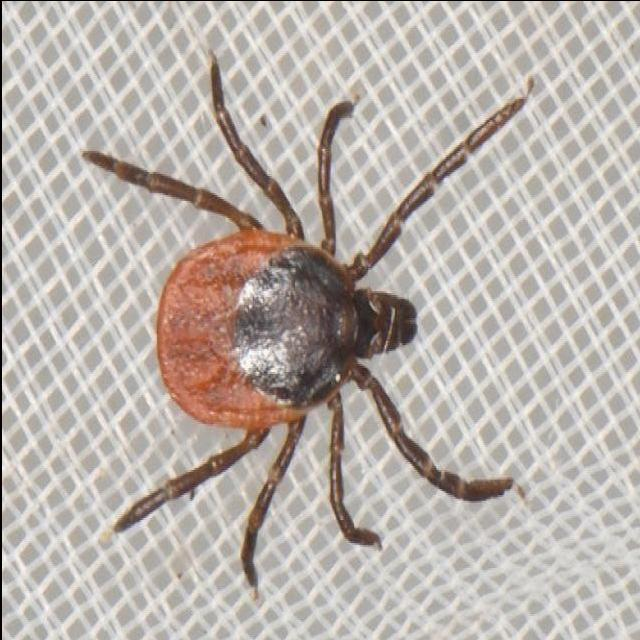Ixodes Ricinus-F: (81, 52, 524, 588)
